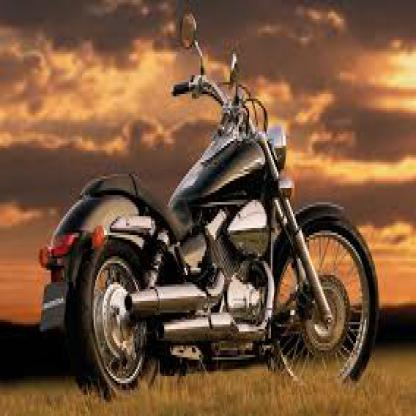Motorcycle: (36, 16, 378, 410)
